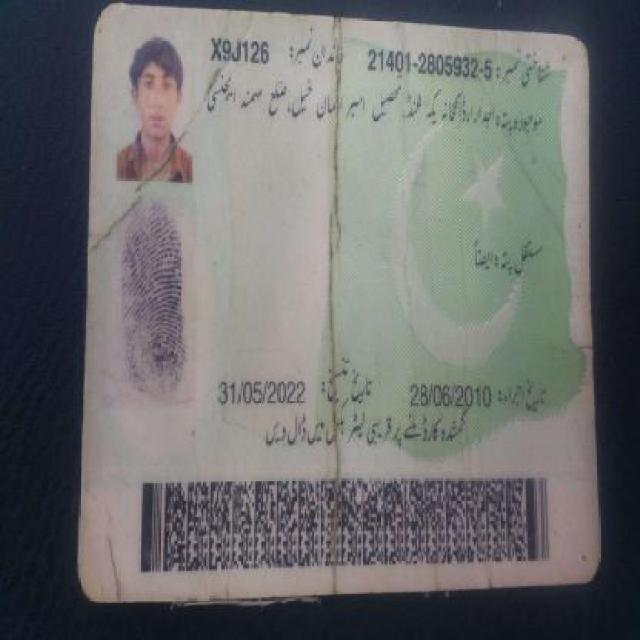Back: (62, 2, 606, 590)
